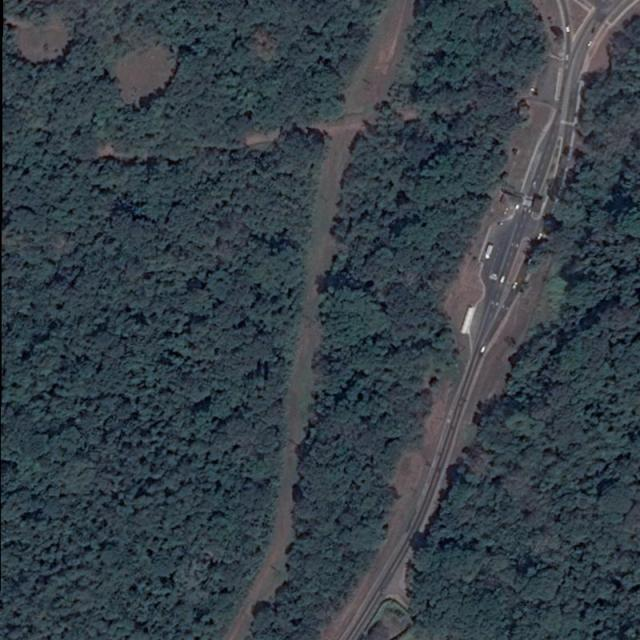vehicle: (484, 244, 494, 259)
